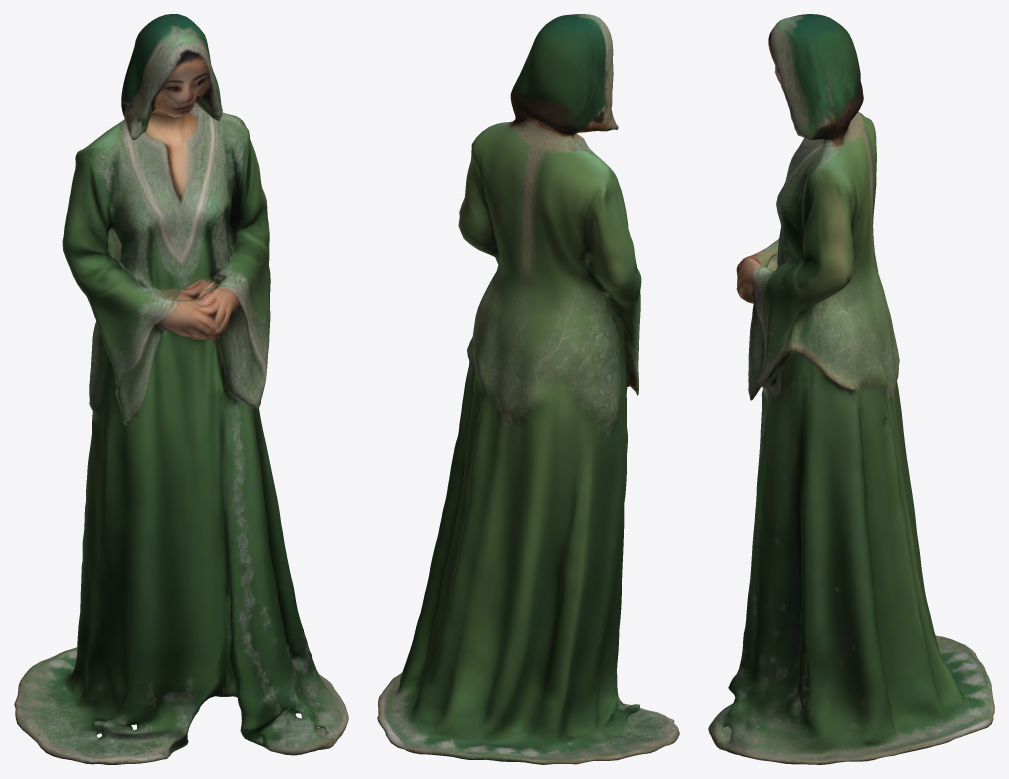
The model's file is moroccan.glb.
3 views of the same model, side by side, from view 1: azimuth 30°, elevation 25°; view 2: azimuth 150°, elevation 25°; view 3: azimuth 270°, elevation 25° (orthographic). The views are drawn at different scales.
Bounding box in the file's own units: 0.8223 × 2 × 0.7625.
Materials: 1 (1 with a texture image).
